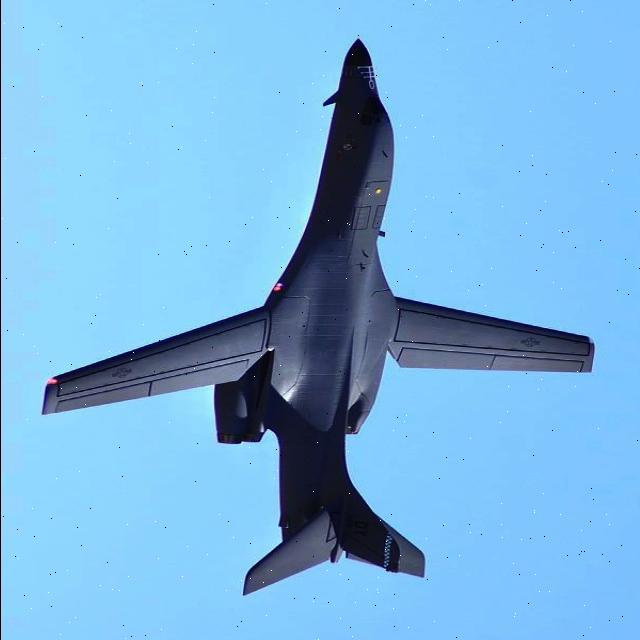B1: (24, 4, 600, 614)
